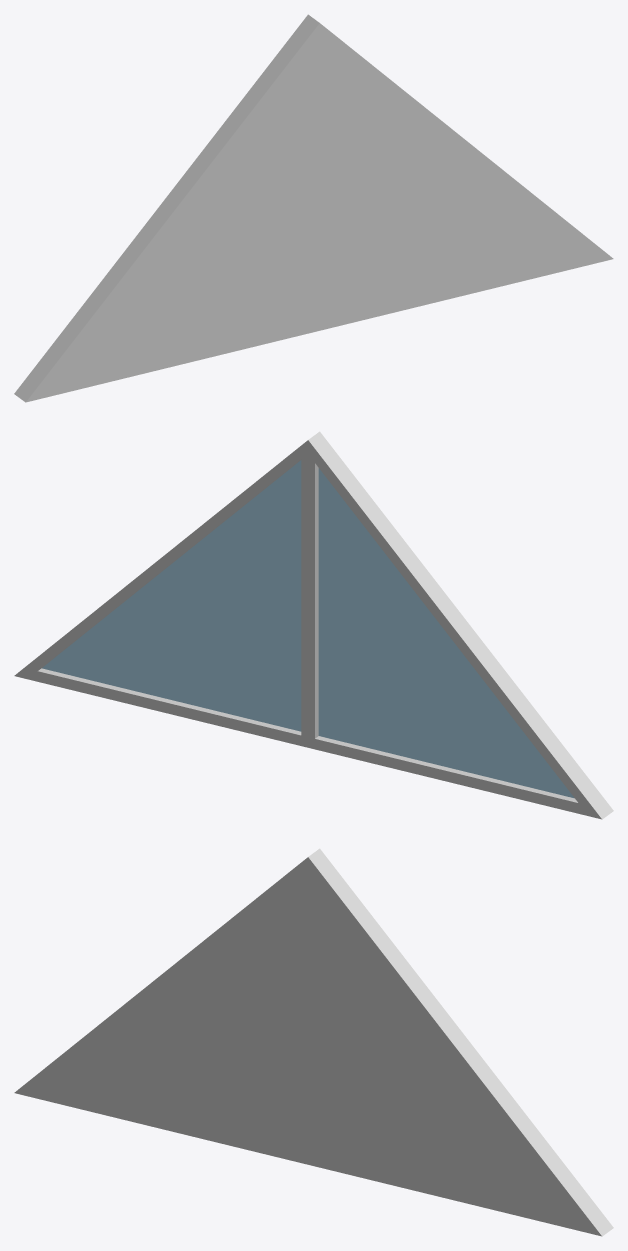
The model's file is TwoRoofFrontWindow.fbx.
The picture shows the model from 3 angles, top to bottom: view 1: azimuth 30°, elevation 25°; view 2: azimuth 150°, elevation 25°; view 3: azimuth 330°, elevation 25°; orthographic projection.
Visible parts, largest first — view 1: TwoRoofFrontWindow; view 2: TwoRoofFrontWindow; view 3: TwoRoofFrontWindow.
Part boxes in pixels (box(x1,y1,x2,y2)): TwoRoofFrontWindow: box(14, 14, 613, 402); TwoRoofFrontWindow: box(14, 431, 613, 819); TwoRoofFrontWindow: box(14, 848, 613, 1236).
Bounding box in the file's own units: 870 × 435 × 30.
